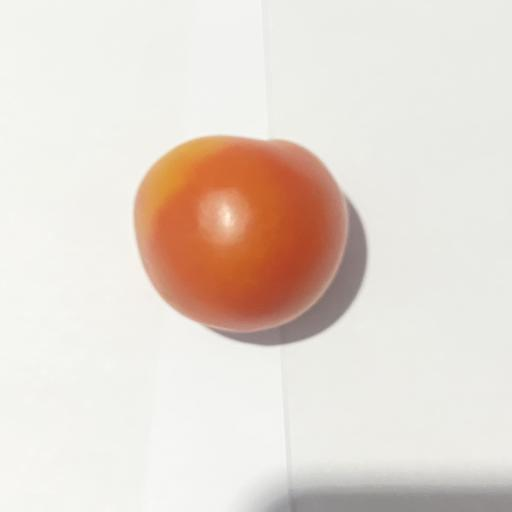ripe: (134, 136, 348, 332)
